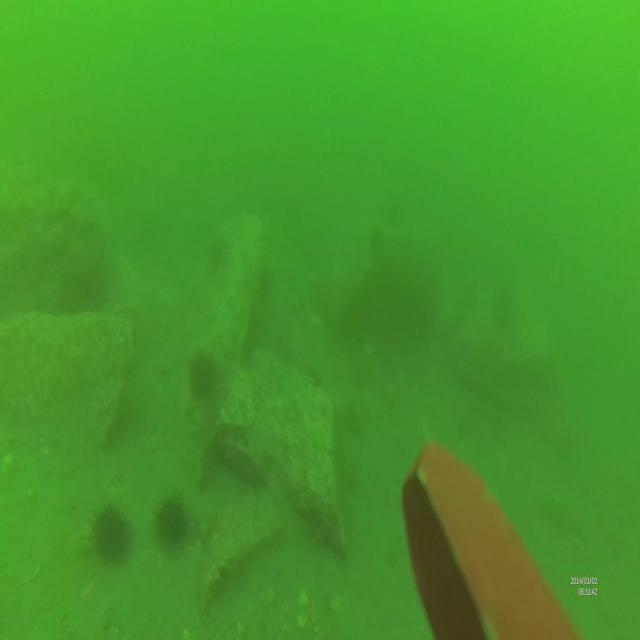echinus: (92, 504, 128, 560), (156, 496, 188, 549), (190, 349, 218, 400)
